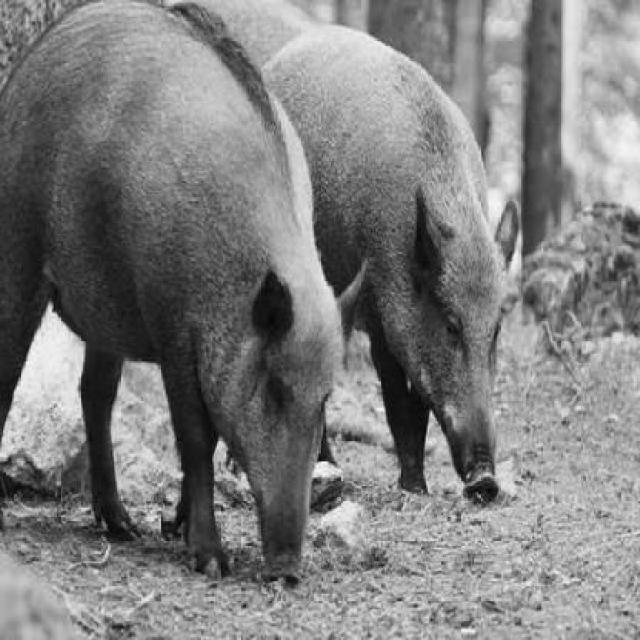Boar: (0, 0, 368, 626), (282, 0, 560, 591)
